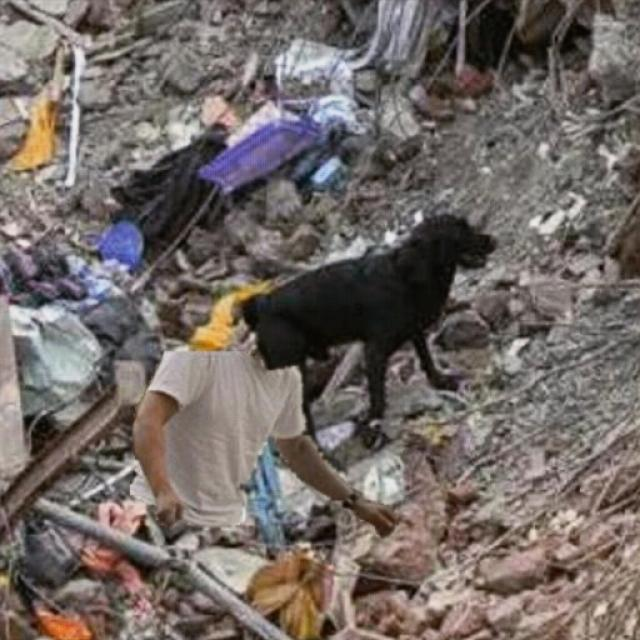Person in Rubble: (130, 352, 398, 538)
